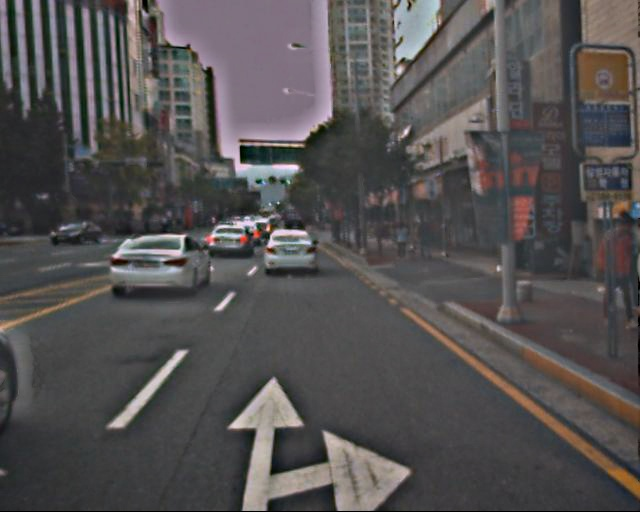person: (595, 215, 640, 334), (413, 214, 433, 263), (394, 220, 411, 261)
